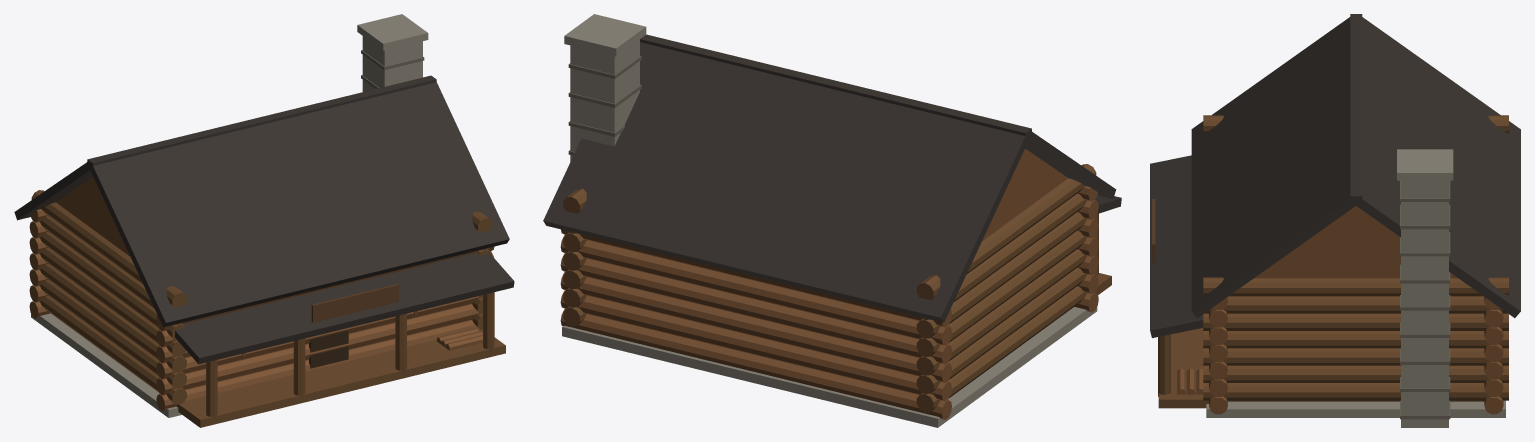
File: lodge.glb
3 views of the same model, side by side, from view 1: azimuth 30°, elevation 25°; view 2: azimuth 150°, elevation 25°; view 3: azimuth 270°, elevation 25° (orthographic). The views are drawn at different scales.
Parts seen in each view (by area): view 1: part-roof-shingle, part-log-end, part-log, part-stone, part-fieldstone, part-sign-board, part-door; view 2: part-roof-shingle, part-log, part-log-end, part-stone, part-fieldstone, part-mortar; view 3: part-roof-shingle, part-log-end, part-log, part-fieldstone, part-stone, part-mortar, part-chinking.
Boxes of the visible parts, bbox=[...] form: part-roof-shingle: bbox=[14, 75, 514, 364]; part-log-end: bbox=[31, 190, 505, 427]; part-log: bbox=[29, 177, 494, 411]; part-stone: bbox=[31, 14, 428, 417]; part-fieldstone: bbox=[362, 36, 422, 91]; part-sign-board: bbox=[311, 284, 398, 322]; part-door: bbox=[309, 330, 348, 368]; part-roof-shingle: bbox=[543, 34, 1121, 322]; part-log: bbox=[560, 148, 1098, 419]; part-log-end: bbox=[563, 164, 1111, 412]; part-stone: bbox=[562, 14, 1097, 427]; part-fieldstone: bbox=[570, 39, 639, 161]; part-mortar: bbox=[568, 55, 641, 155]; part-roof-shingle: bbox=[1150, 14, 1520, 337]; part-log-end: bbox=[1158, 115, 1508, 408]; part-log: bbox=[1177, 206, 1503, 414]; part-fieldstone: bbox=[1401, 180, 1448, 427]; part-stone: bbox=[1206, 149, 1505, 417]; part-mortar: bbox=[1400, 180, 1450, 419]; part-chinking: bbox=[1228, 400, 1484, 401].
Size of the model in its own units: 74.7 by 47.3 by 61.9.
